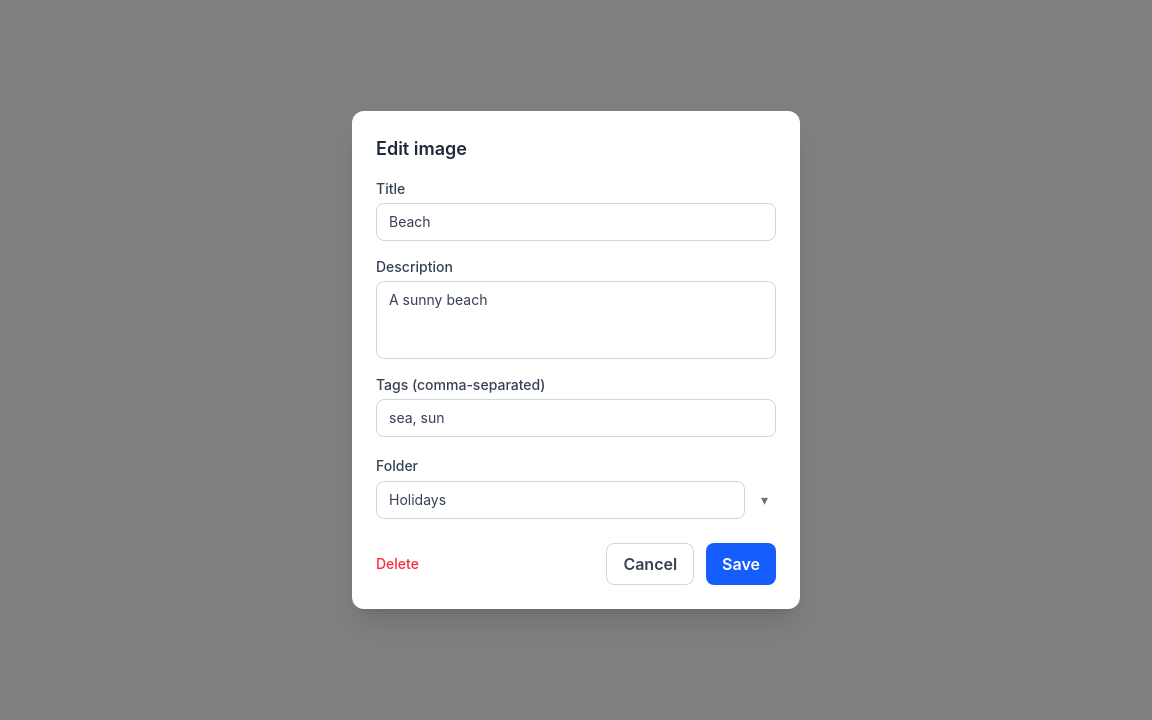
Test: ImageEditModal › shows a validation error when the title is cleared
Clear the field with test id "edit-title-input" at {"x": 576, "y": 222}, box [376,203,776,241]
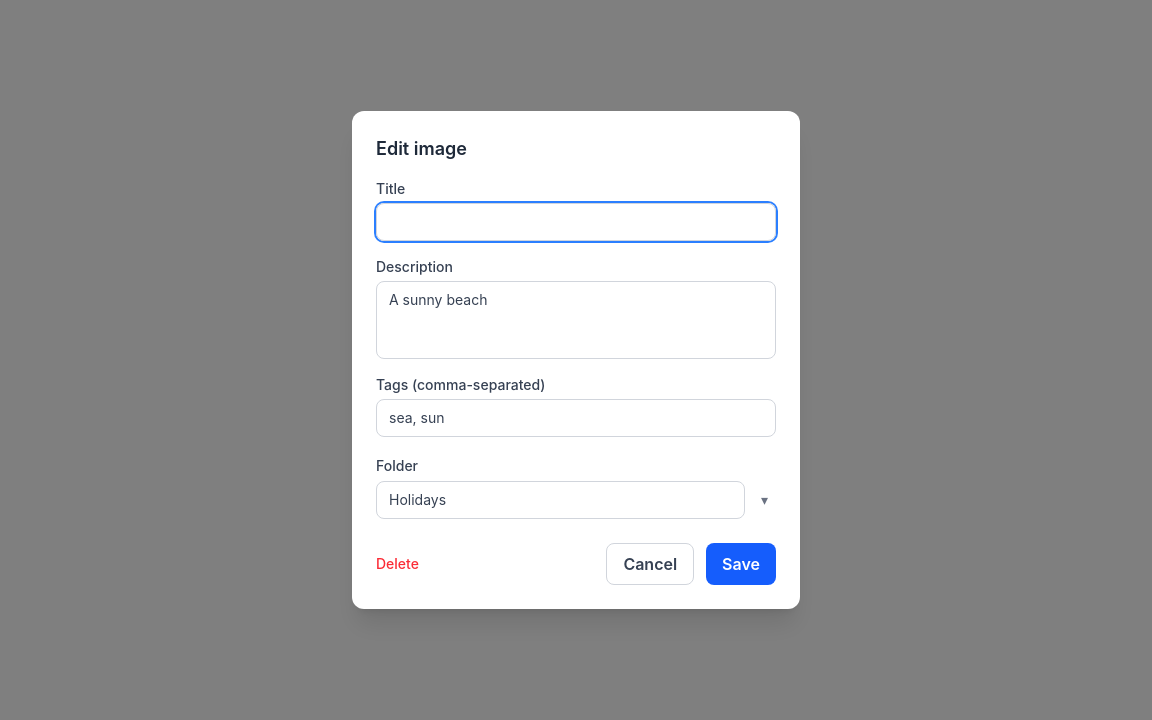
Click the button with test id "edit-save-button" at {"x": 741, "y": 564}, box [706,543,776,585]
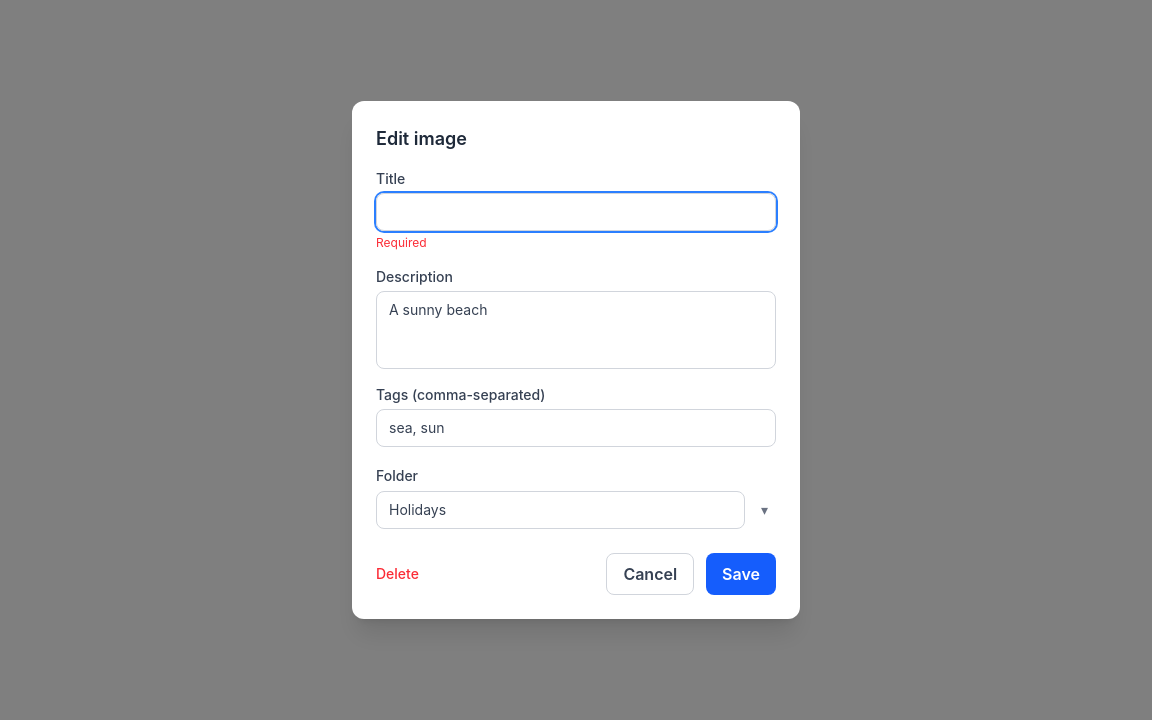
Expected: the text "Required" is shown, [376,235,427,250]
